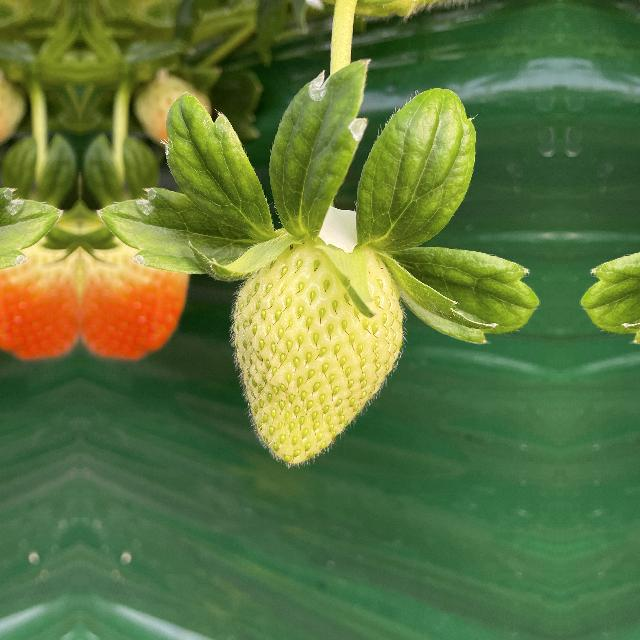Health_25: (229, 221, 409, 469)
